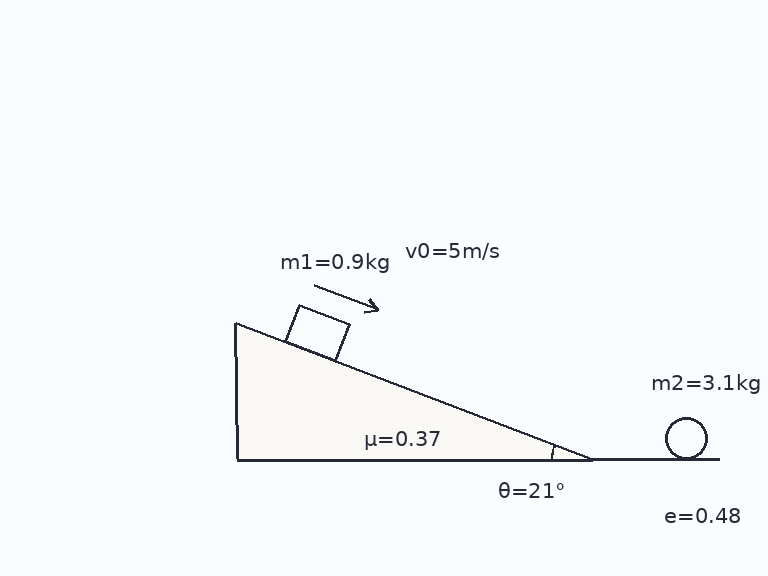ball: (663, 415, 709, 461)
block: (283, 303, 351, 362)
ramp: (234, 320, 594, 461)
